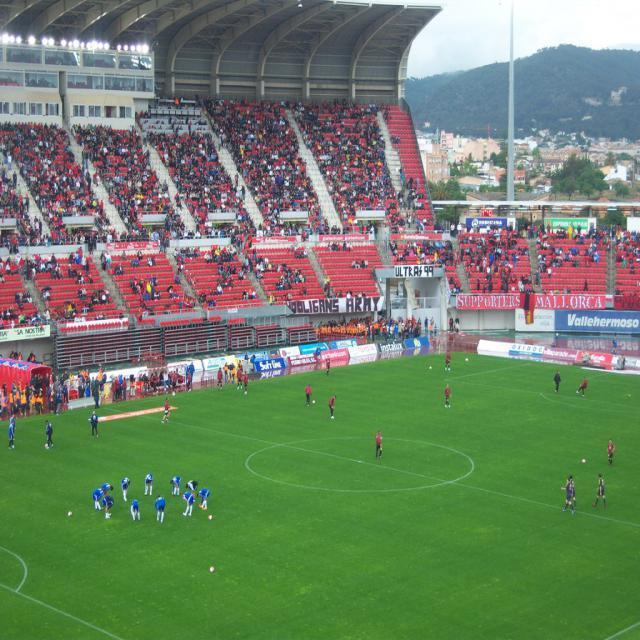football: (205, 561, 229, 582), (64, 505, 77, 520), (206, 513, 217, 525)
